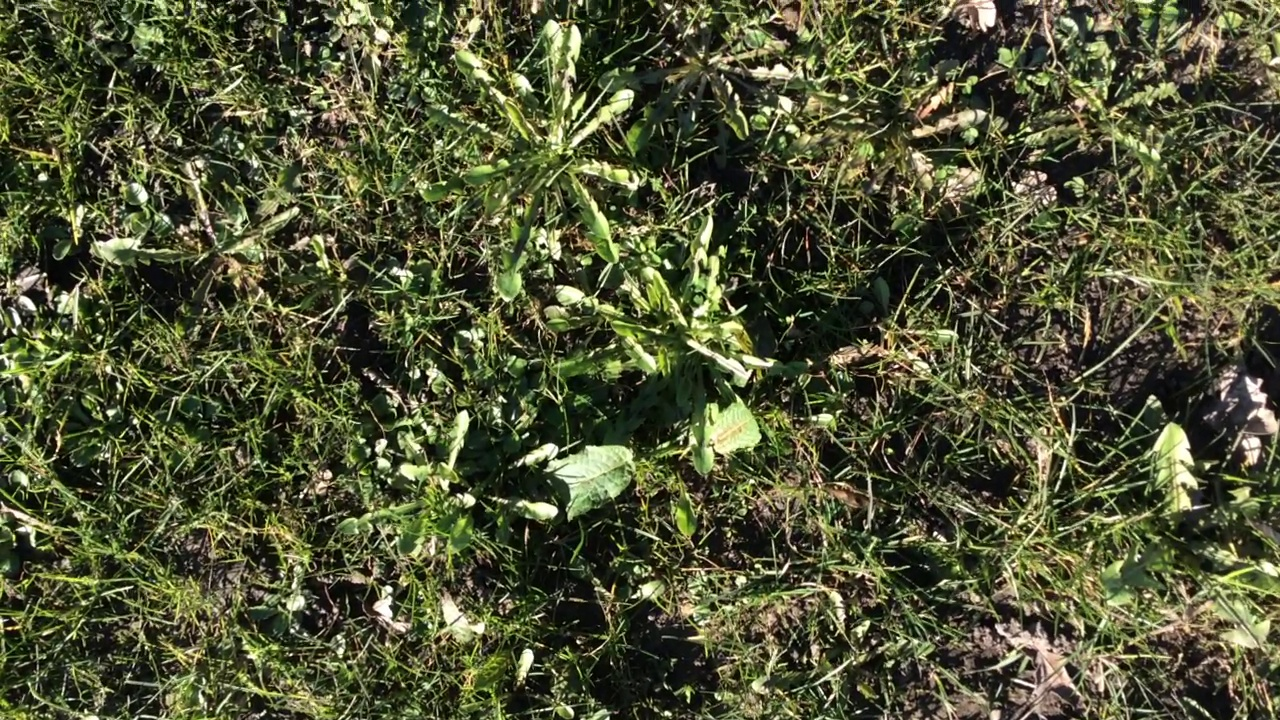rumex: (524, 446, 637, 506), (695, 402, 760, 456)
